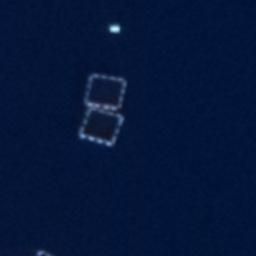square_solid: (74, 102, 128, 152), (81, 70, 130, 113)
